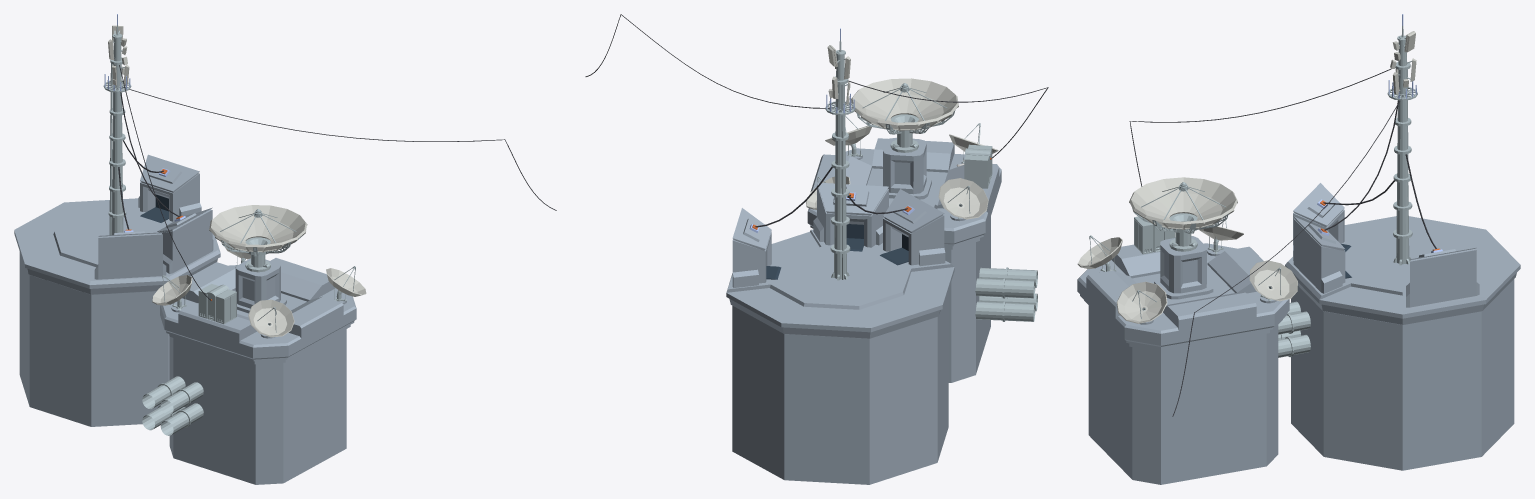
The model's file is BaseStation.fbx.
3 renders of one model, left to right at view 1: azimuth 30°, elevation 25°; view 2: azimuth 150°, elevation 25°; view 3: azimuth 270°, elevation 25°, orthographic. The views are drawn at different scales.
Parts seen in each view (by area): view 1: 立方体.184, 柱体.051, 圆环.018, 柱体.057, 柱体.058, 柱体.075, 柱体.055, 柱体.053, 立方体.186, 柱体.066, 立方体.188, 柱体.068 (+2 smaller); view 2: 柱体.051, 立方体.184, 圆环.018, 柱体.058, 柱体.055, 柱体.075, 柱体.057, 柱体.053, 立方体.186, 柱体.068, 立方体.188, 柱体.064 (+2 smaller); view 3: 柱体.051, 立方体.184, 圆环.018, 柱体.057, 柱体.055, 柱体.053, 立方体.186, 柱体.058, 柱体.067, 柱体.069, 柱体.076, 柱体.066 (+5 smaller).
Boxes of the visible parts, bbox=[...] form: 立方体.184: bbox=[160, 258, 356, 484]; 柱体.051: bbox=[14, 198, 220, 426]; 圆环.018: bbox=[209, 205, 306, 251]; 柱体.057: bbox=[138, 154, 201, 222]; 柱体.058: bbox=[94, 229, 166, 279]; 柱体.075: bbox=[142, 376, 203, 435]; 柱体.055: bbox=[157, 207, 213, 273]; 柱体.053: bbox=[103, 14, 131, 234]; 立方体.186: bbox=[235, 258, 286, 313]; 柱体.066: bbox=[248, 299, 294, 338]; 立方体.188: bbox=[198, 283, 236, 324]; 柱体.068: bbox=[152, 275, 192, 312]; 柱体.051: bbox=[726, 229, 954, 484]; 立方体.184: bbox=[807, 138, 1001, 382]; 圆环.018: bbox=[851, 78, 958, 130]; 柱体.058: bbox=[880, 189, 945, 266]; 柱体.055: bbox=[813, 182, 888, 251]; 柱体.075: bbox=[975, 267, 1037, 321]; 柱体.057: bbox=[732, 208, 781, 287]; 柱体.053: bbox=[825, 28, 855, 279]; 立方体.186: bbox=[879, 137, 931, 199]; 柱体.068: bbox=[938, 178, 988, 221]; 立方体.188: bbox=[964, 144, 992, 188]; 柱体.064: bbox=[890, 114, 918, 152]; 柱体.051: bbox=[1285, 216, 1520, 470]; 立方体.184: bbox=[1077, 237, 1289, 484]; 圆环.018: bbox=[1129, 177, 1237, 229]; 柱体.057: bbox=[1406, 247, 1479, 307]; 柱体.055: bbox=[1293, 216, 1351, 293]; 柱体.053: bbox=[1387, 14, 1417, 264]; 立方体.186: bbox=[1154, 236, 1213, 299]; 柱体.058: bbox=[1293, 183, 1351, 260]; 柱体.067: bbox=[1116, 281, 1167, 324]; 柱体.069: bbox=[1249, 260, 1297, 303]; 柱体.076: bbox=[1278, 301, 1310, 357]; 柱体.066: bbox=[1077, 235, 1122, 272].
Size of the model in its own units: 5366 by 4371 by 4457.
